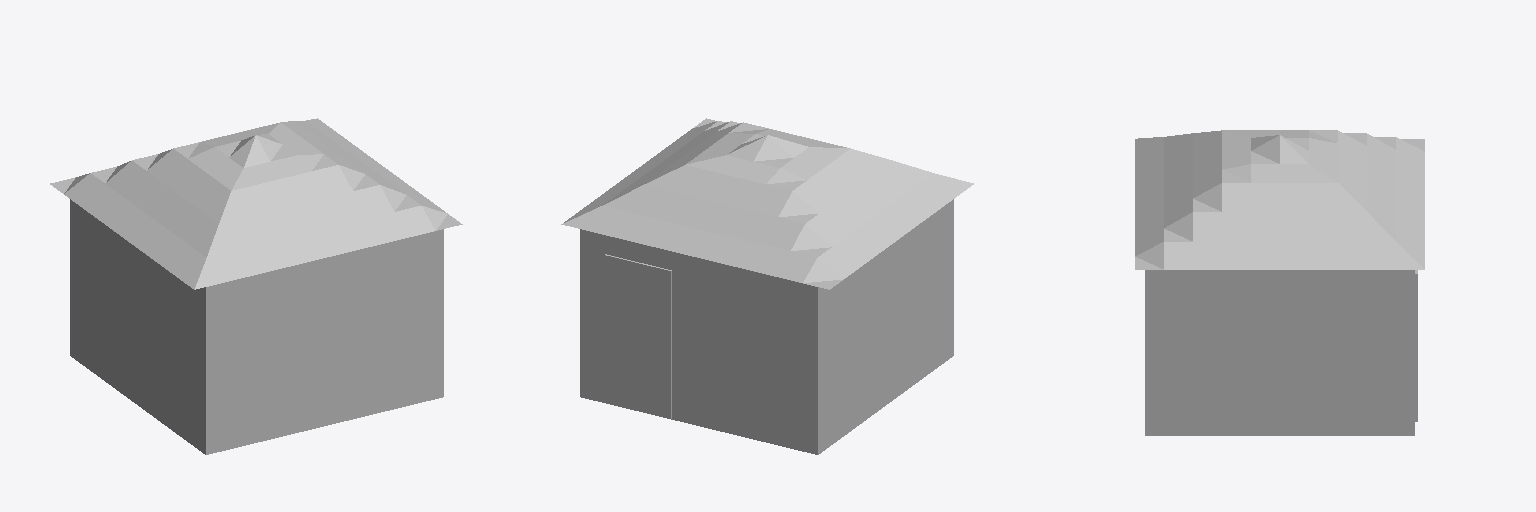
The model's file is Home2.obj.
3 renders of one model, left to right at view 1: azimuth 30°, elevation 25°; view 2: azimuth 150°, elevation 25°; view 3: azimuth 270°, elevation 25°, orthographic.
Parts seen in each view (by area): view 1: Plane.001; view 2: Plane.001; view 3: Plane.001.
Part boxes in pixels (left/top/right/bottom): Plane.001: left=50, top=118, right=462, bottom=454; Plane.001: left=561, top=118, right=973, bottom=454; Plane.001: left=1135, top=130, right=1424, bottom=435.
Bounding box in the file's own units: 3.99 × 3.43 × 3.73.